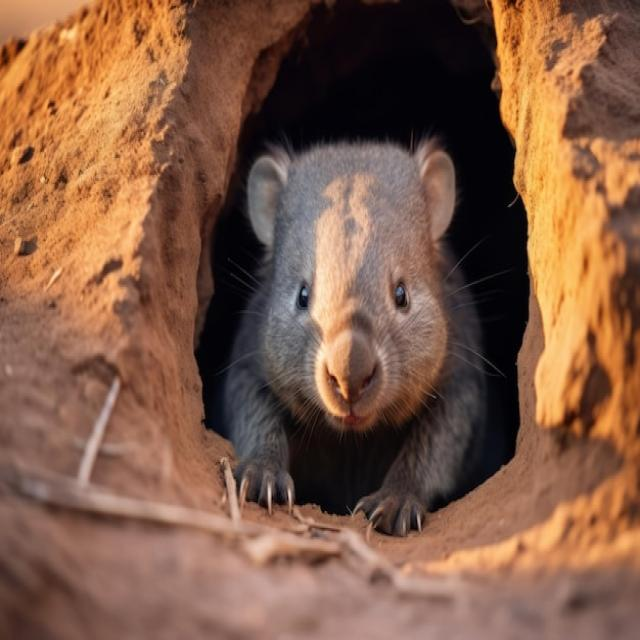Wombat: (226, 130, 485, 518)
